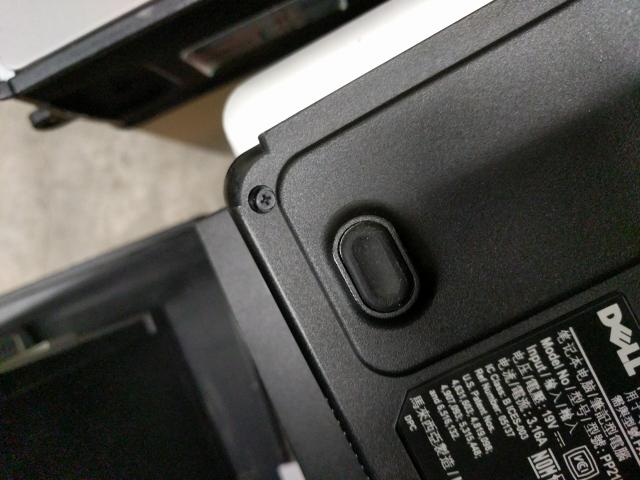CRS: (253, 190, 276, 212)
